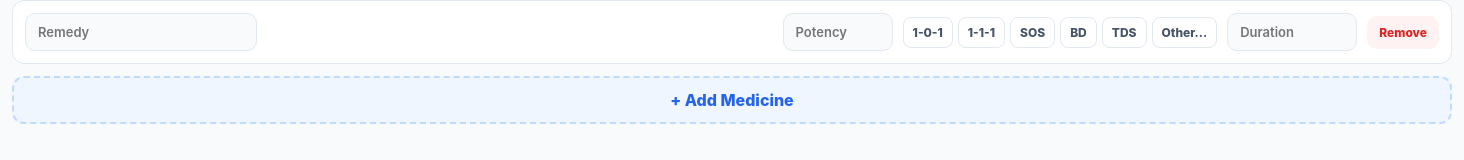
PrescriptionEditor — remedy dropdown closes on selection (Issue 3 fix) › closes the suggestion dropdown immediately after a suggestion is clicked
The image size is (1464, 160).
Step 1. Focus the field with placeholder "Remedy" → (141, 32), box [25,13,257,51]
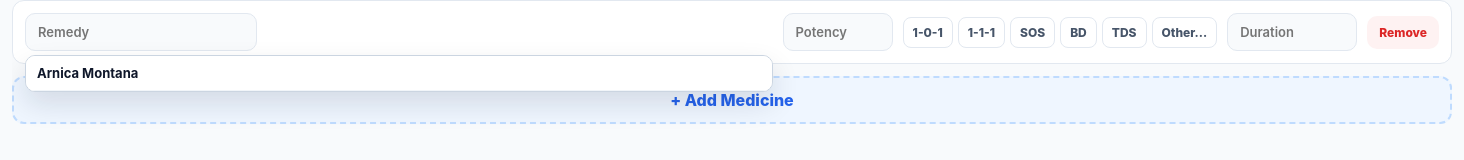
Expected: the button "Arnica Montana" is shown
Step 2. Click the button "Arnica Montana" → (88, 73), box [26,56,772,91]
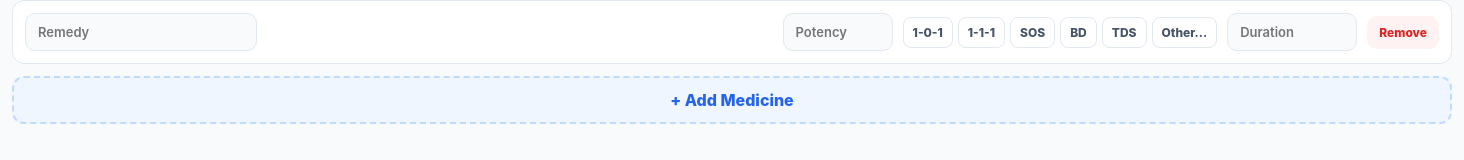
Expected: the button "Arnica Montana" is gone
